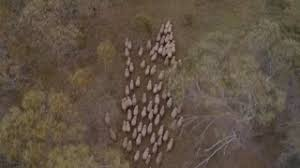sheep: (107, 125, 117, 140), (102, 110, 111, 125), (142, 147, 150, 161), (150, 64, 158, 78), (146, 122, 154, 135), (162, 55, 170, 68), (121, 66, 130, 77), (120, 135, 127, 149), (166, 94, 173, 108), (125, 140, 133, 152), (133, 150, 141, 162), (135, 133, 142, 146), (153, 113, 160, 126), (151, 141, 158, 154), (146, 79, 153, 91), (158, 69, 165, 81), (163, 129, 169, 142), (136, 46, 143, 57), (125, 108, 132, 119), (140, 93, 147, 104), (145, 39, 152, 50), (121, 120, 127, 132), (154, 93, 160, 105), (139, 58, 146, 68), (123, 83, 129, 94), (131, 114, 137, 125), (155, 31, 161, 42), (123, 47, 130, 56), (128, 62, 135, 71), (135, 75, 140, 87), (133, 104, 138, 115), (123, 37, 128, 47)
